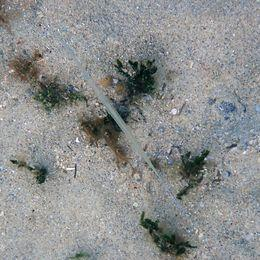Fistularia commersonii: (45, 27, 216, 227)
